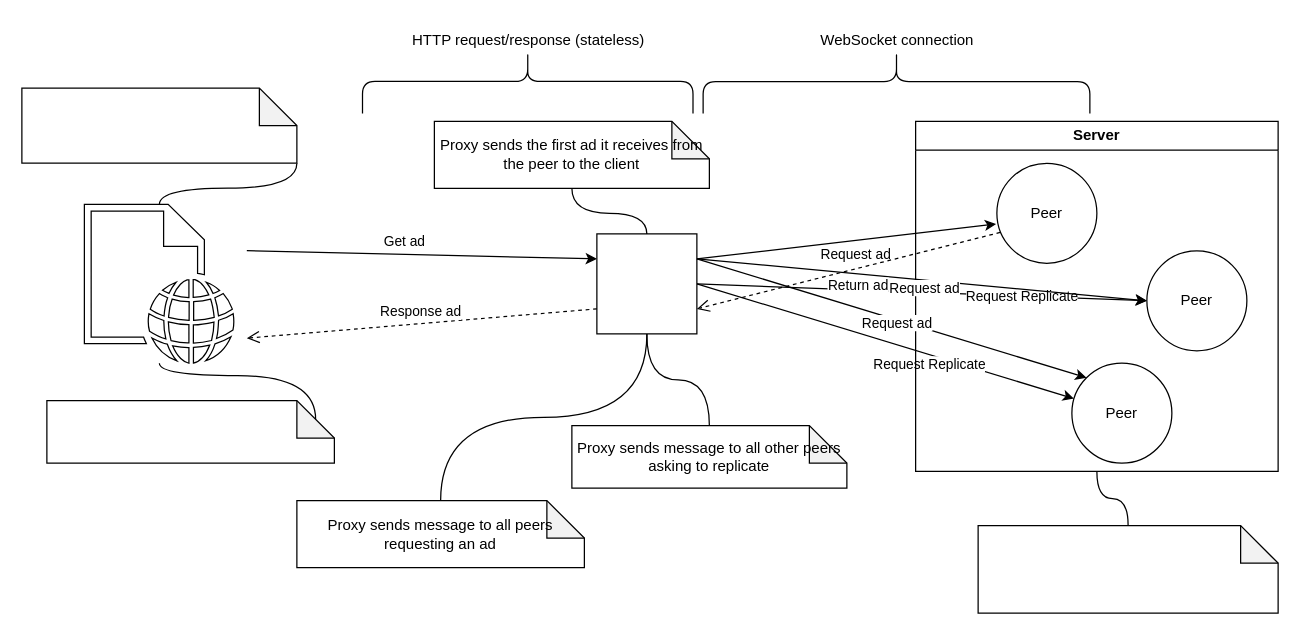
Some shapes in this 1300 by 635 pixel diagram are drawn without their labels. The centre of each missing label's shape, as x and y in pixels:
"Peers that do not contain the ad in question accept the replicated ad" goes at (1127,568).
"Proxy" goes at (646,283).
"Webpage issues a request to the proxy for an ad" goes at (159,125).
"Webpage receives ad from proxy" goes at (190,431).
